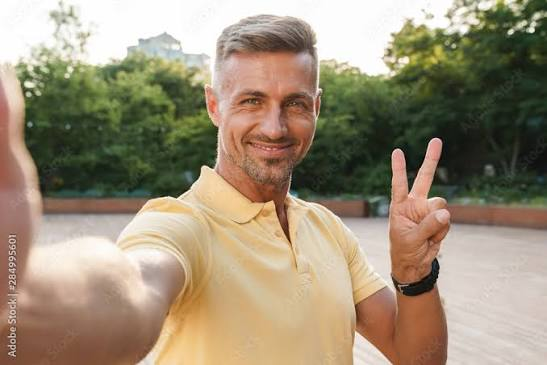peace_sign: (381, 129, 458, 277)
